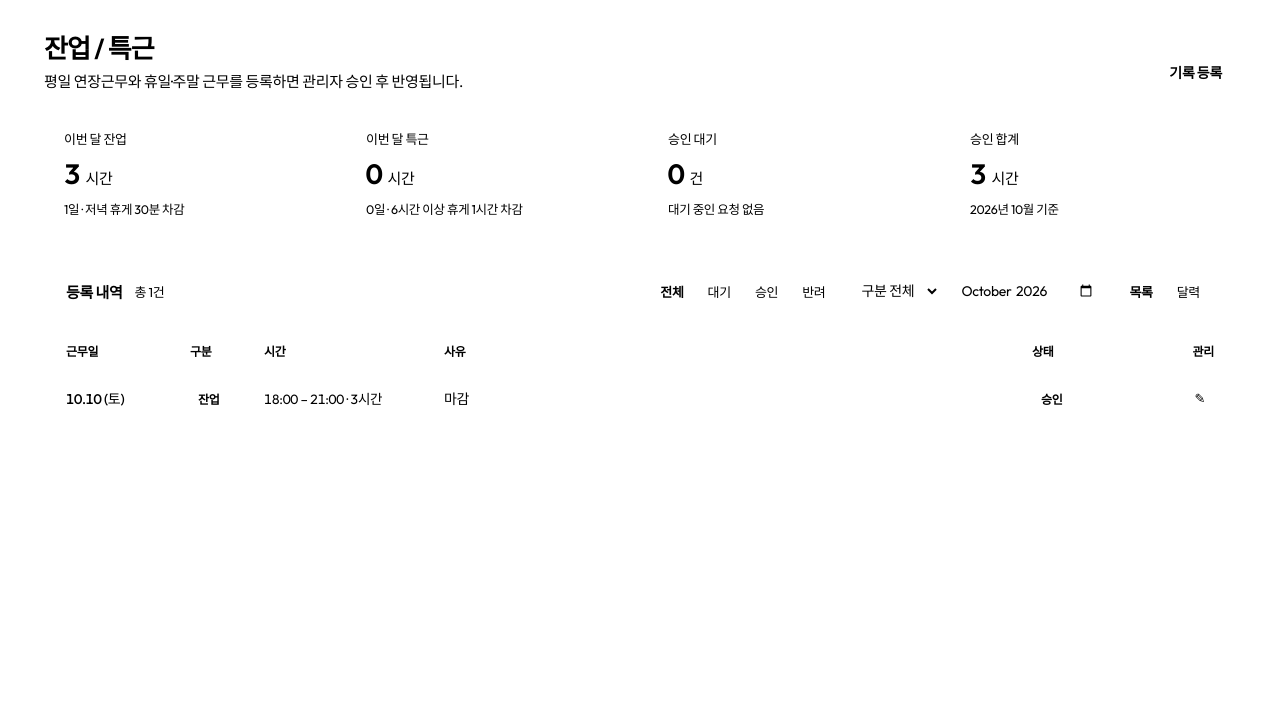
OvertimeRecordsPage — 승인된 기록 수정 › 수정하면 재승인이 필요하다고 먼저 묻는다
This screenshot has width=1280, height=720.
Expected: the text "마감" is shown, left=444, top=390, right=469, bottom=408
Click the button named "수정" at (1200, 398), box left=1186, top=384, right=1214, bottom=412
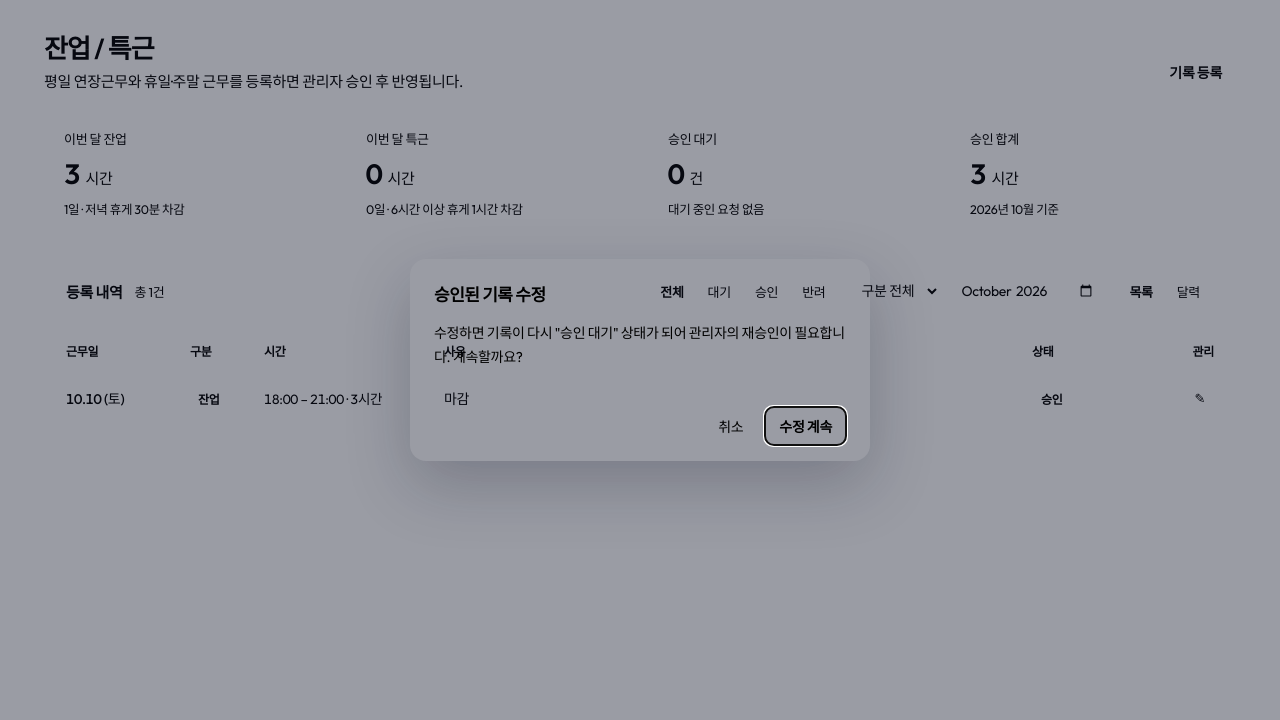
Expected: the dialog shows "재승인", left=410, top=259, right=870, bottom=461
Click the button "취소" at (731, 426), box left=704, top=407, right=757, bottom=445
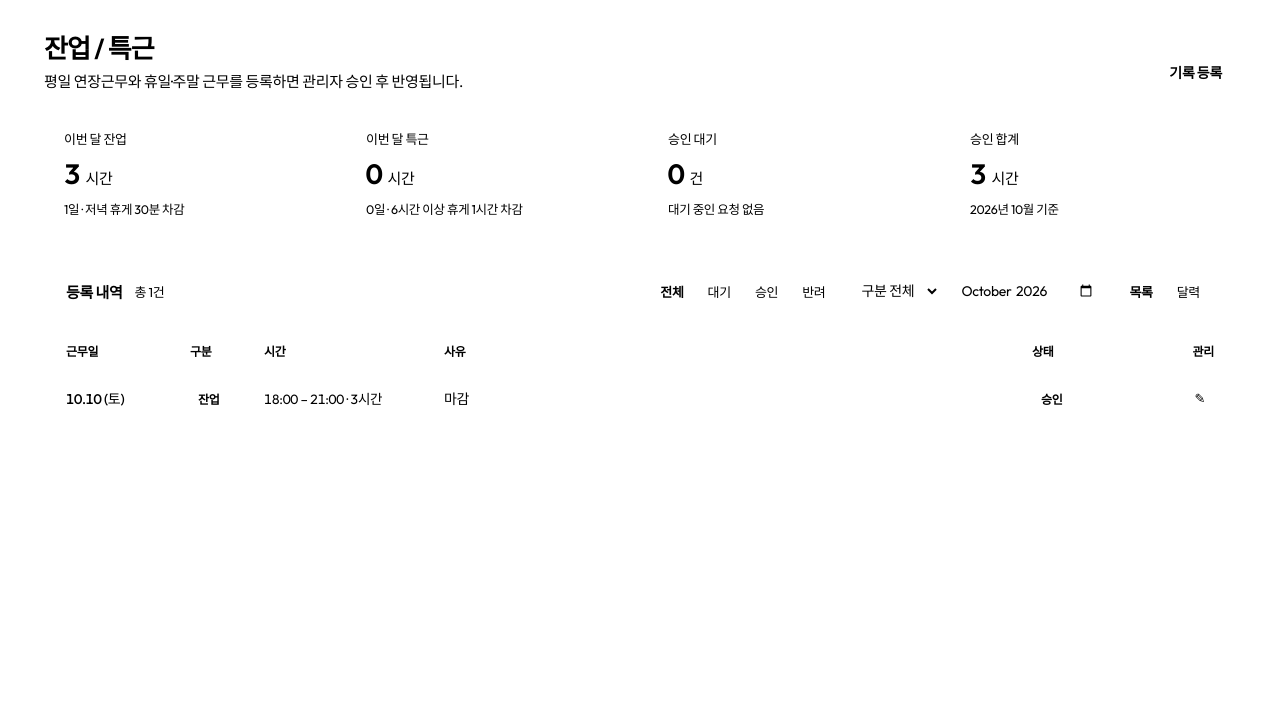
Expected: the dialog is gone
